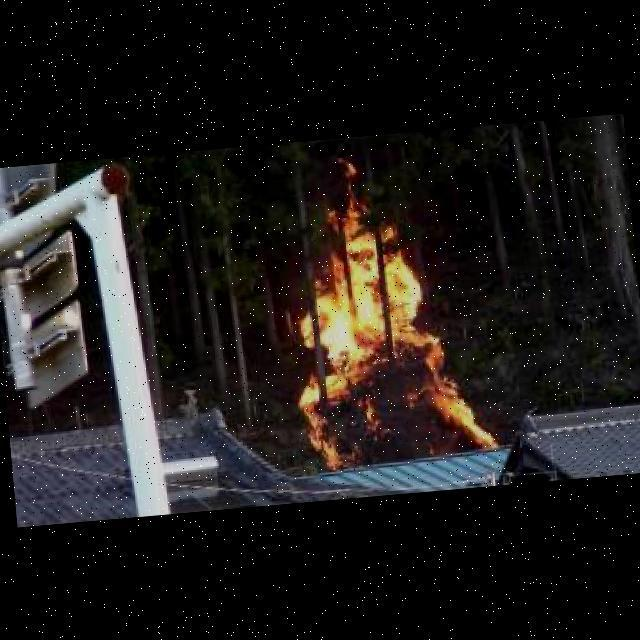Fire: (274, 143, 488, 470)
